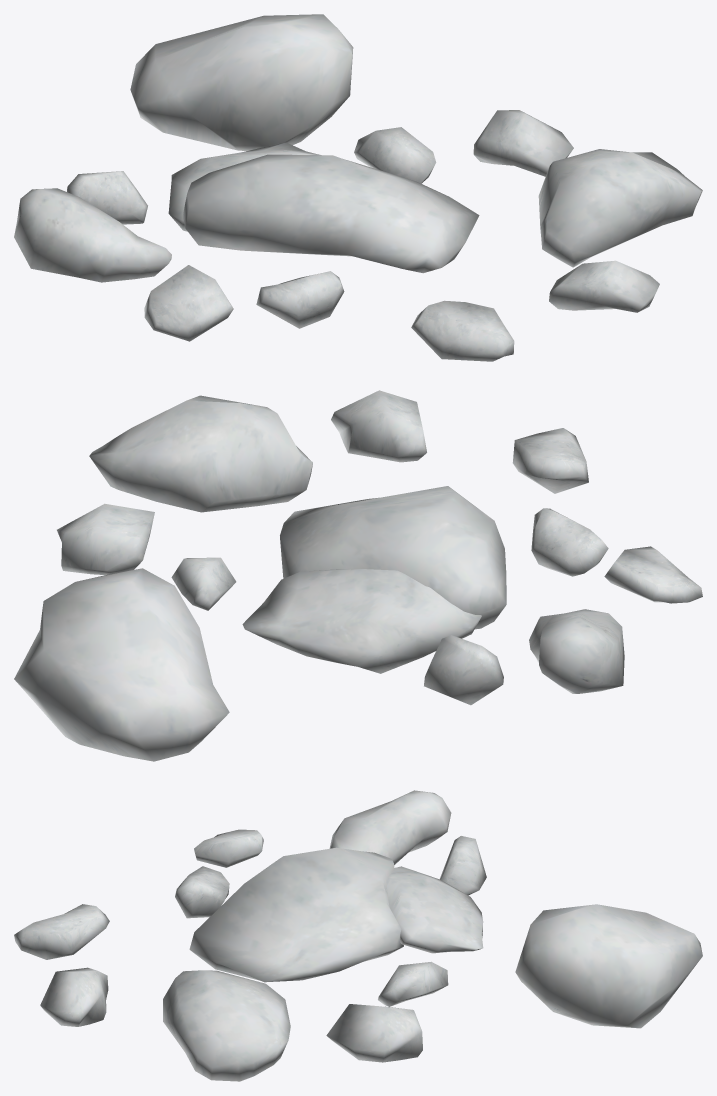
File: Snowpile02.FBX
The picture shows the model from 3 angles, top to bottom: view 1: azimuth 30°, elevation 25°; view 2: azimuth 150°, elevation 25°; view 3: azimuth 270°, elevation 25°; orthographic projection. The views are drawn at different scales.
Parts seen in each view (by area): view 1: Snowpile03; view 2: Snowpile03; view 3: Snowpile03.
Boxes of the visible parts, left/top/right/bottom form: Snowpile03: left=14, top=14, right=702, bottom=361; Snowpile03: left=14, top=390, right=702, bottom=761; Snowpile03: left=14, top=790, right=702, bottom=1081.
Size of the model in its own units: 701 by 143 by 825.
